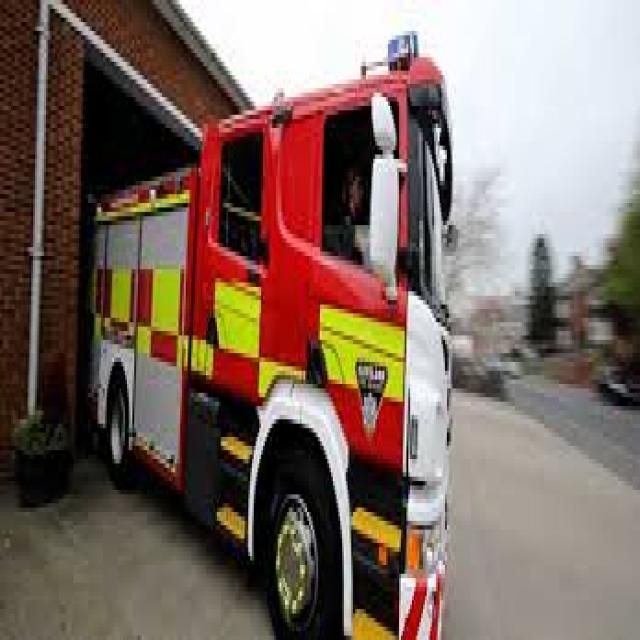Fire_brigade: (71, 17, 463, 640)
